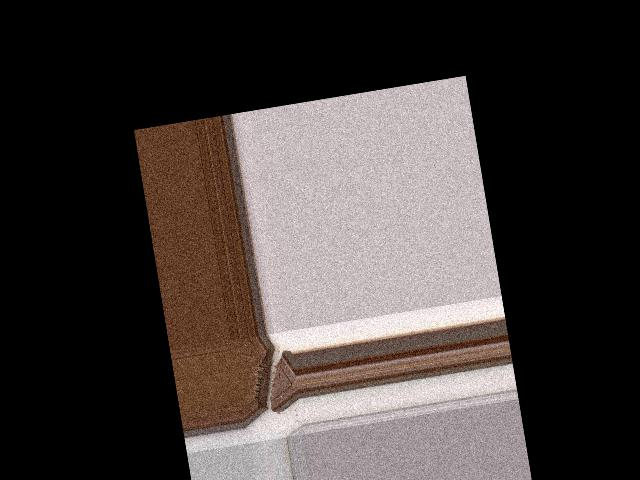chocolate: (232, 331, 303, 428)
